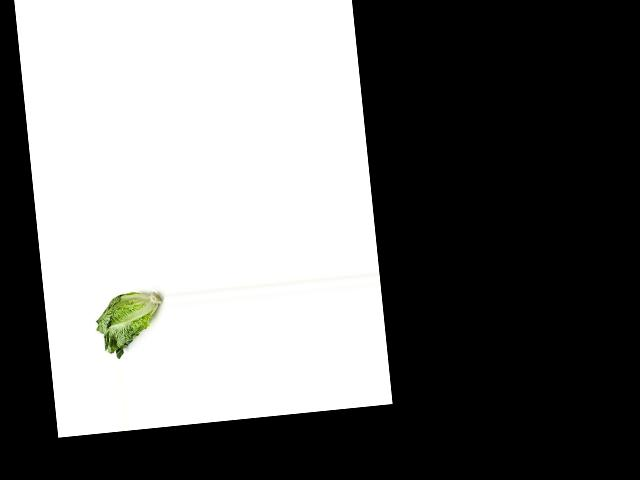lettuce: (90, 287, 164, 360)
